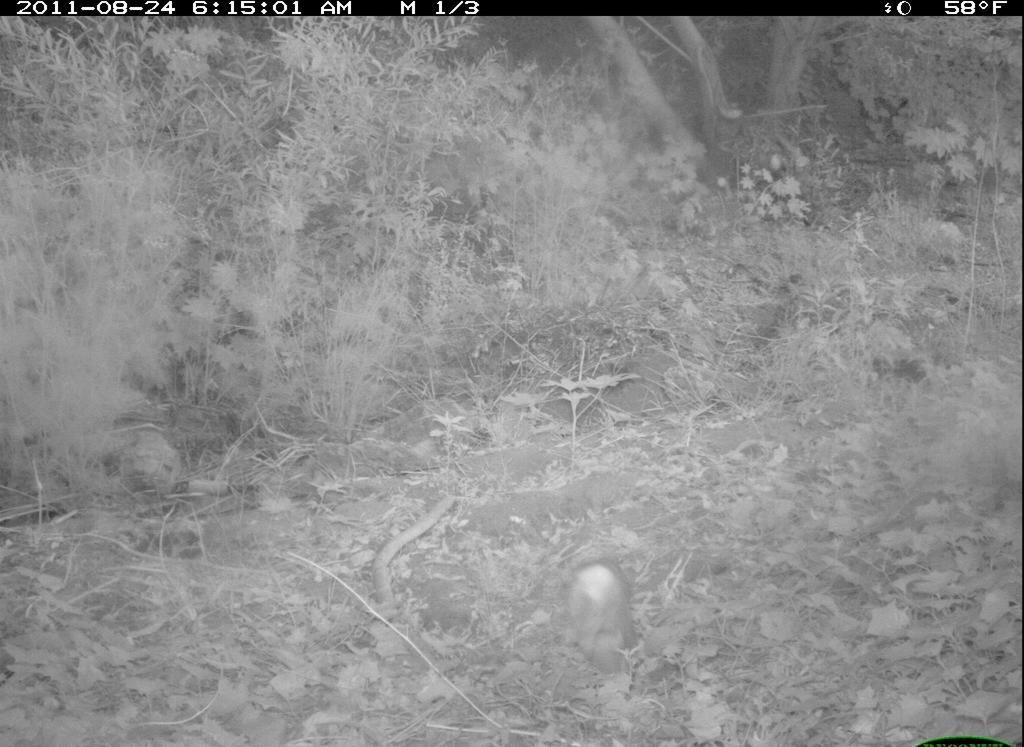rabbit: (557, 543, 653, 689)
